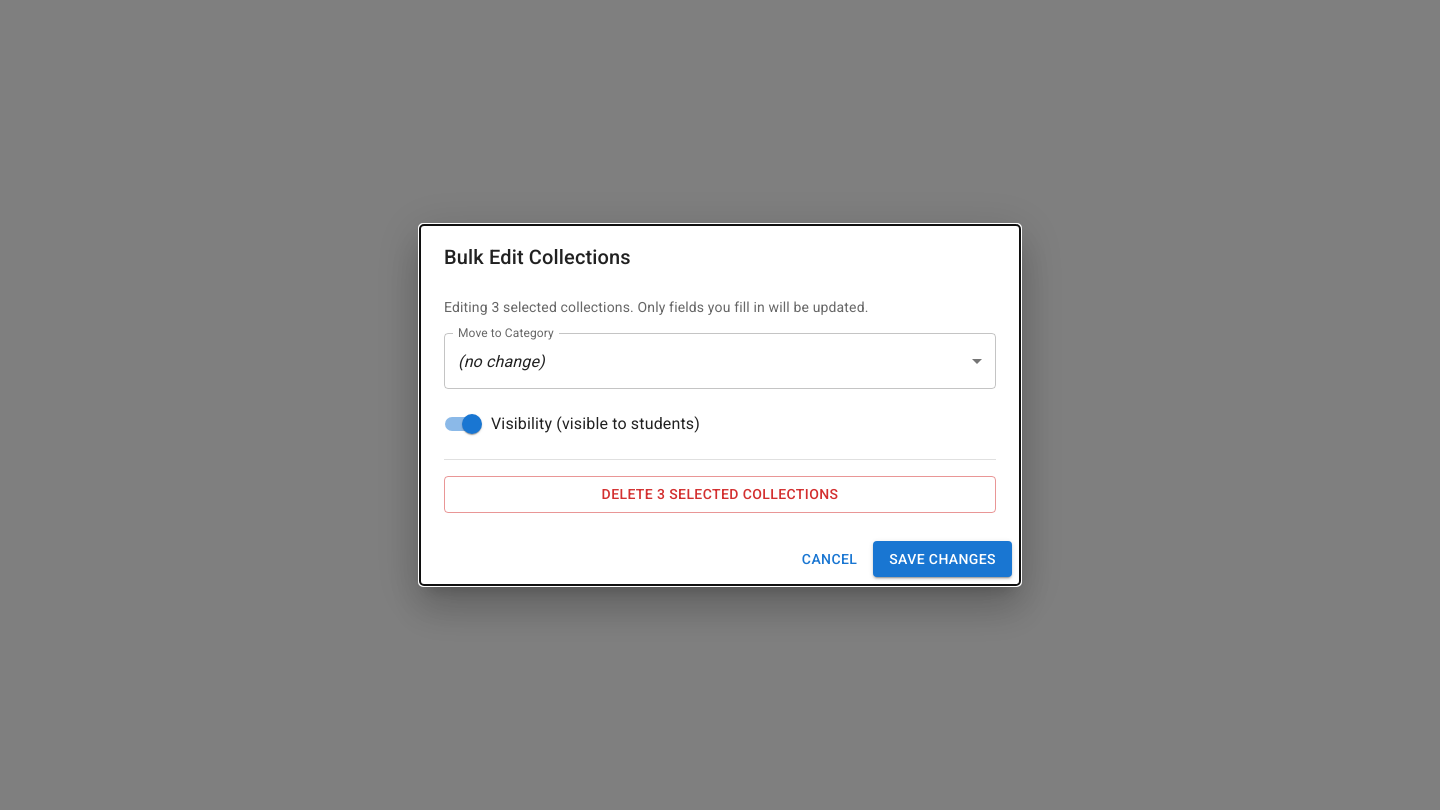
Test case: BulkEditCollectionsDialog (#1578) › shows an error toast when bulk delete fails
What coordinates should you click on to do the following:
click the button "Delete 3 Selected Collections"
I would click on:
 (720, 494)
Its box is [444,476,996,512].
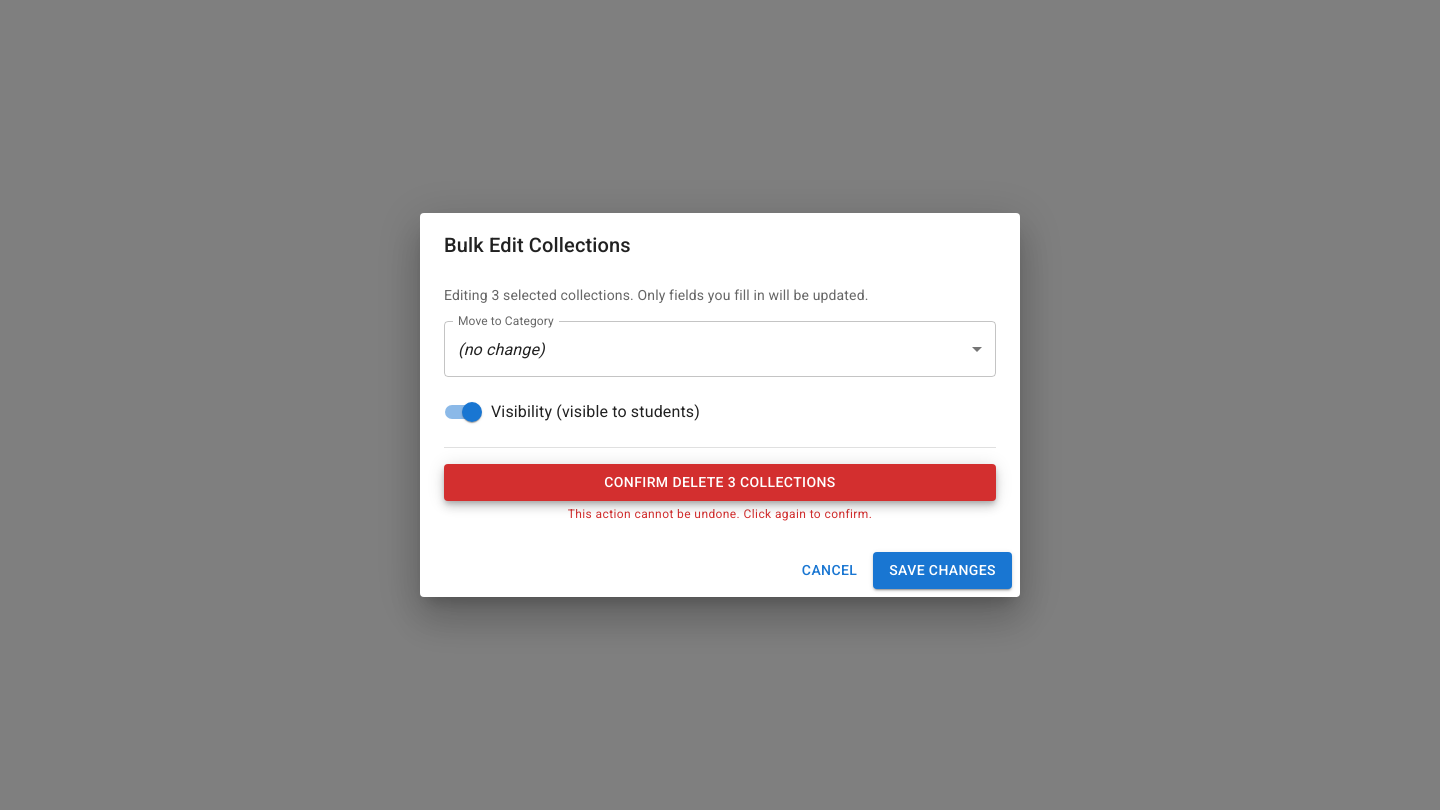
What coordinates should you click on to do the following:
click the button "Confirm Delete 3 Collections"
I would click on:
 (720, 482)
Its box is [444,464,996,500].
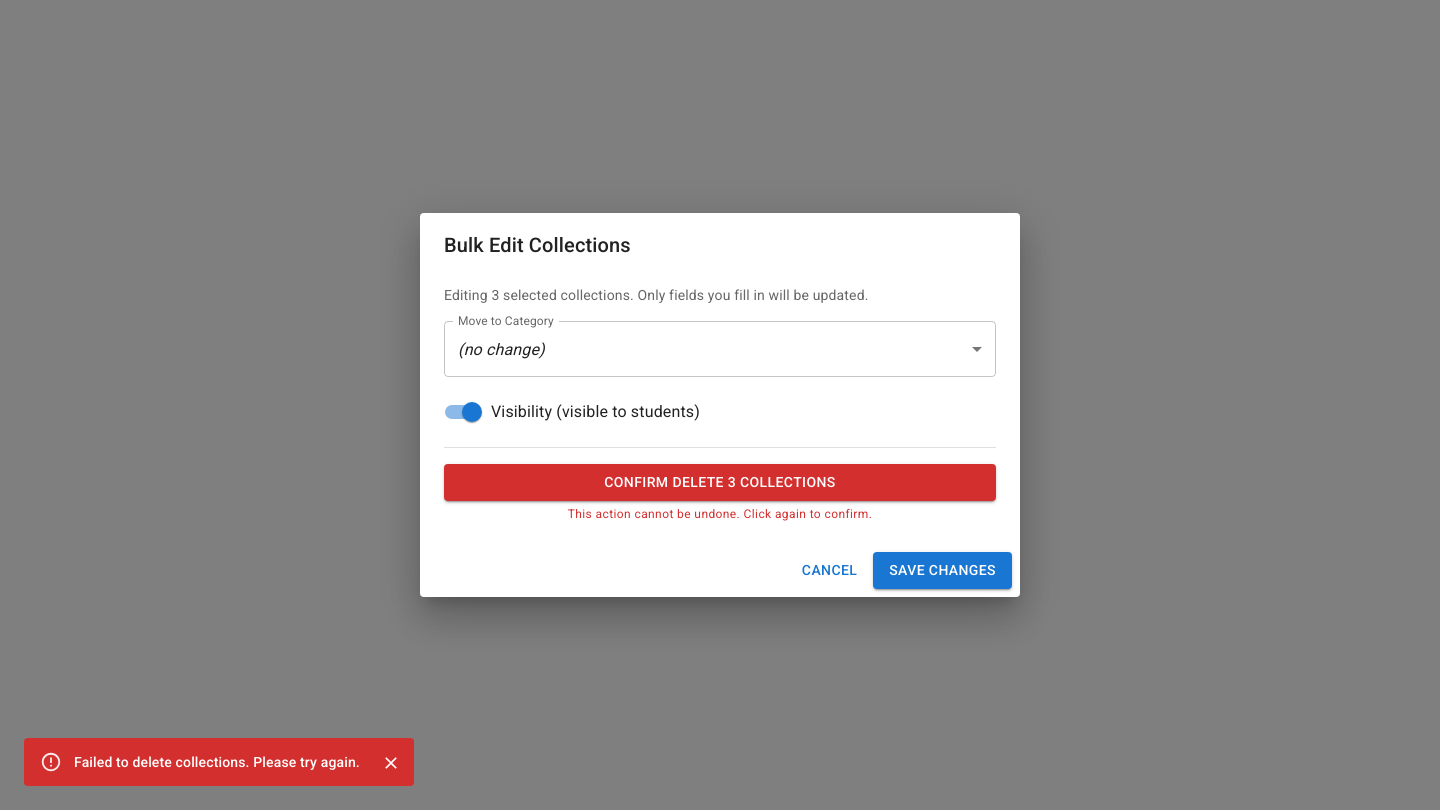
Now the text "Failed to delete collections. Please try again." is shown, box [74,754,360,770]
